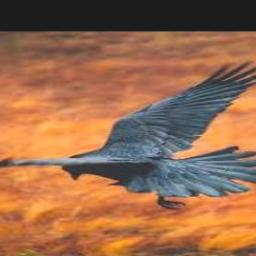Crow: (0, 59, 256, 208)
